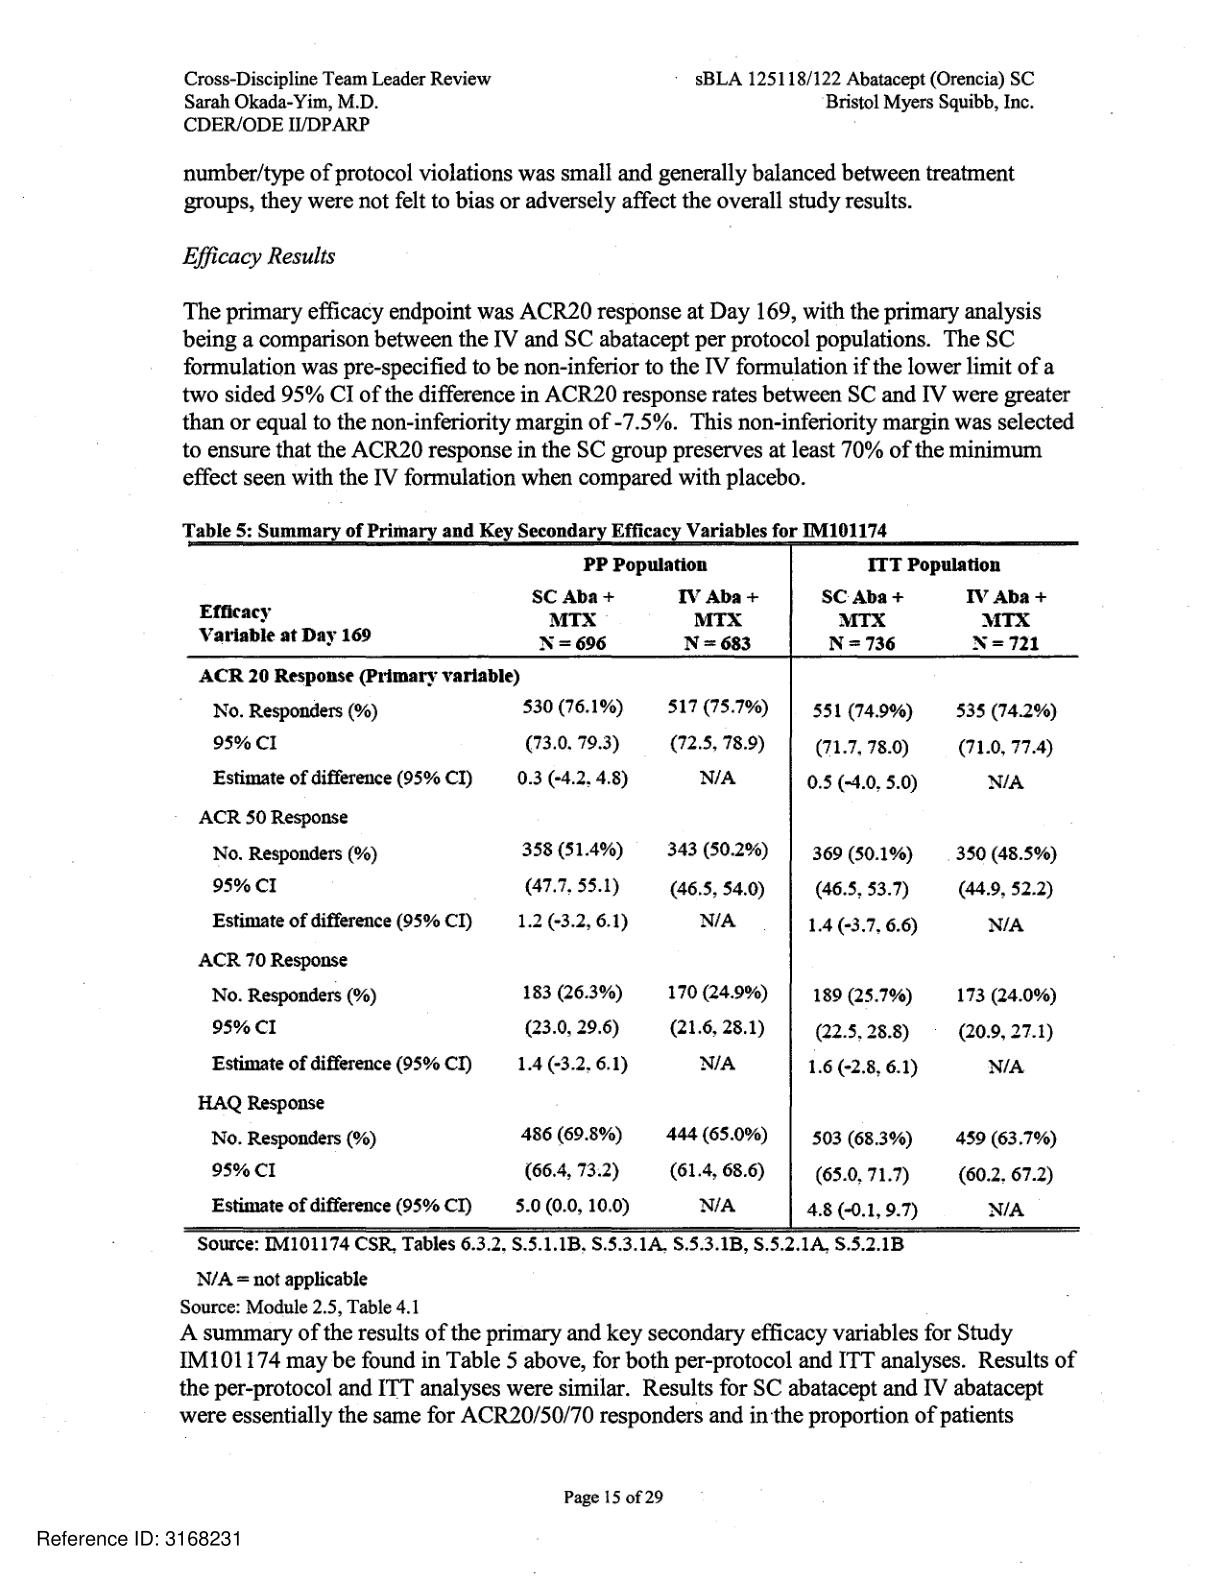partial_lined_merged_cells: (184, 539, 1087, 1237)
